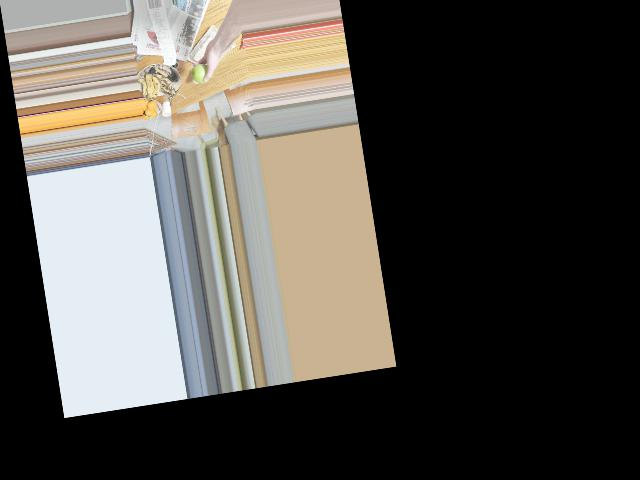apple: (189, 59, 213, 85)
